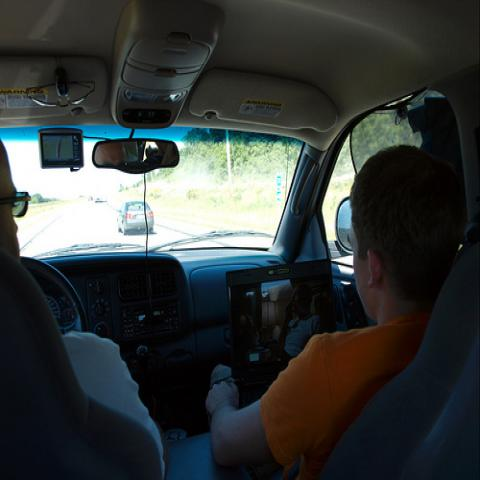car: (116, 200, 154, 235)
